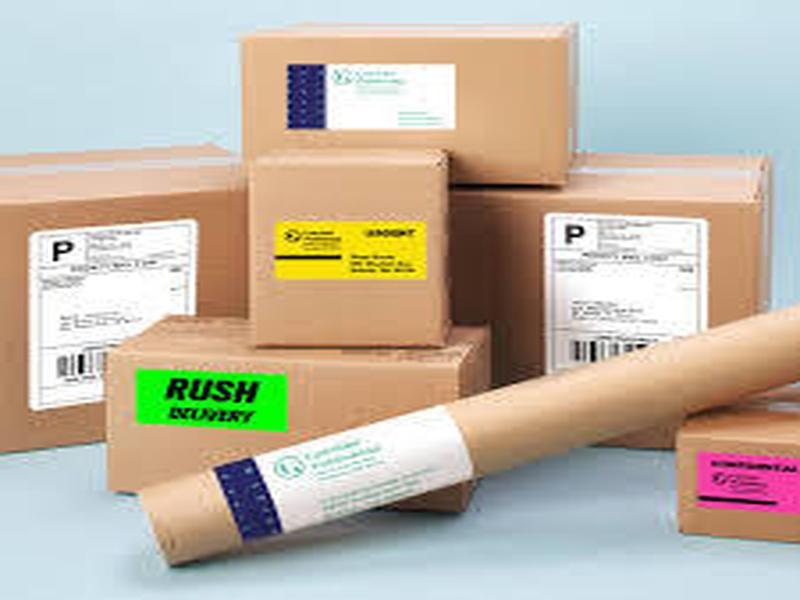package: (462, 135, 781, 456), (98, 307, 501, 523), (12, 140, 248, 461), (235, 18, 589, 190), (238, 140, 460, 356), (666, 408, 790, 561)
